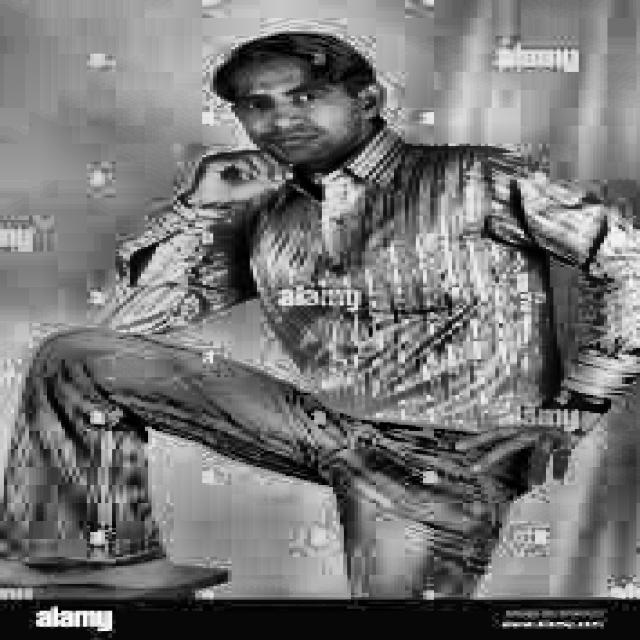Human: (28, 34, 640, 640)
